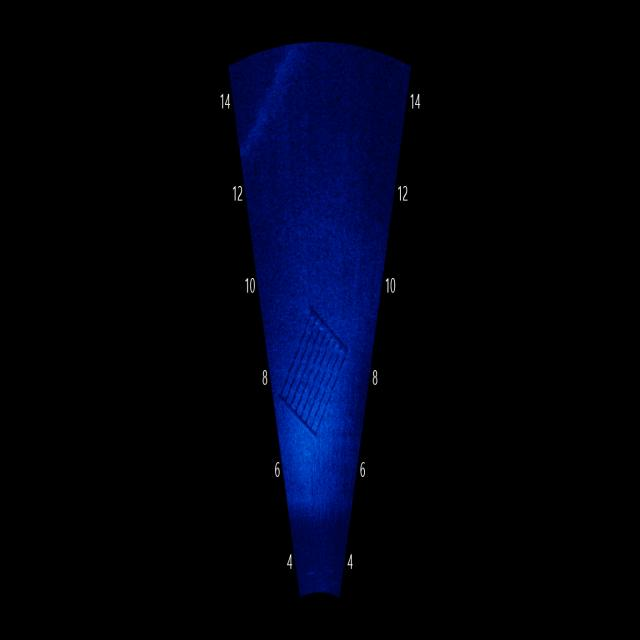square: (276, 298, 352, 462)
